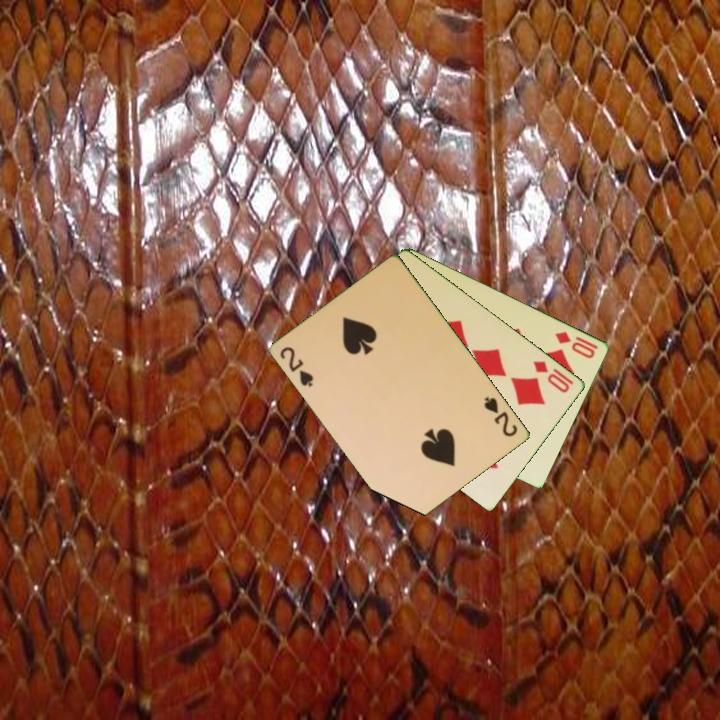10d: (552, 327, 601, 362), (530, 357, 573, 396)
2s: (481, 393, 521, 440), (277, 343, 317, 390)
